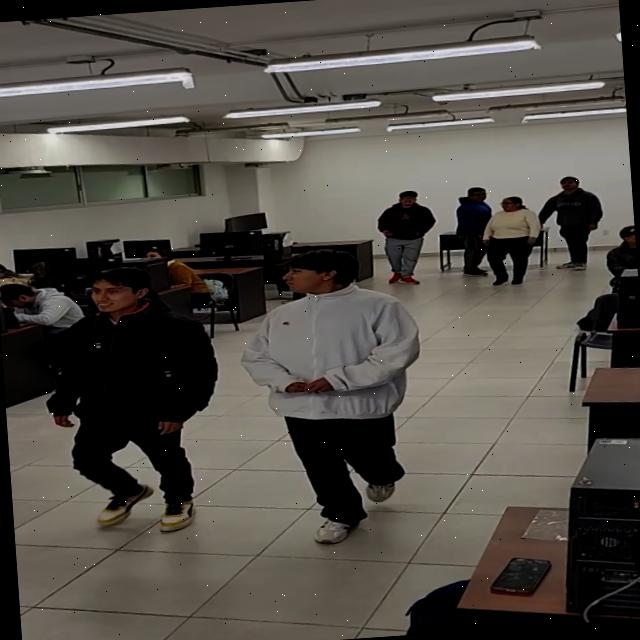Persona: (235, 236, 432, 545), (35, 248, 238, 544), (538, 167, 612, 276), (371, 186, 440, 286), (482, 194, 547, 292), (446, 182, 492, 280)
